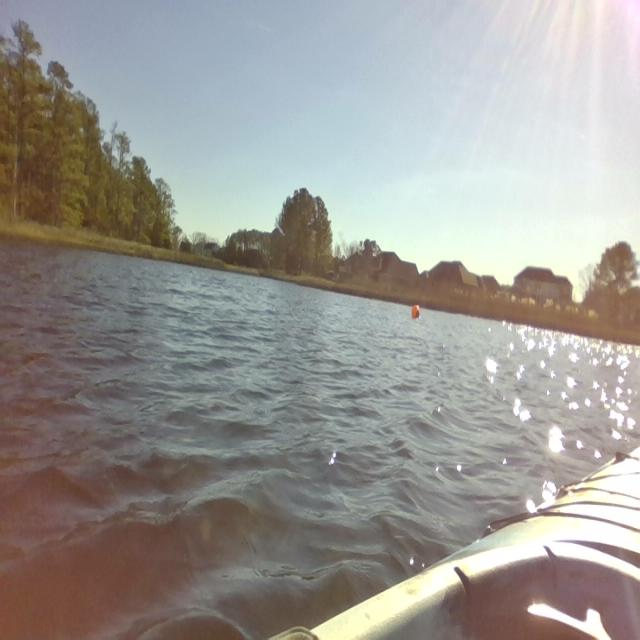Buoy: (407, 302, 422, 326)
